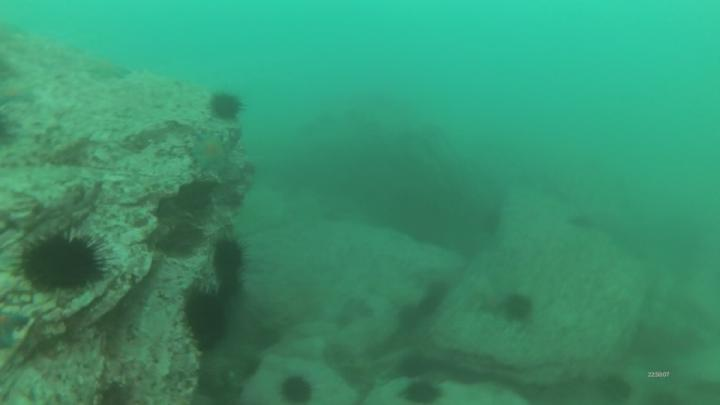echinus: (10, 224, 125, 301), (188, 291, 232, 352), (212, 238, 253, 290), (395, 378, 449, 405), (276, 372, 318, 405), (500, 292, 536, 328), (208, 91, 247, 124), (599, 373, 633, 405), (397, 303, 427, 335), (425, 278, 452, 305), (416, 295, 442, 321), (478, 213, 504, 238)
starfish: (188, 132, 235, 181)
